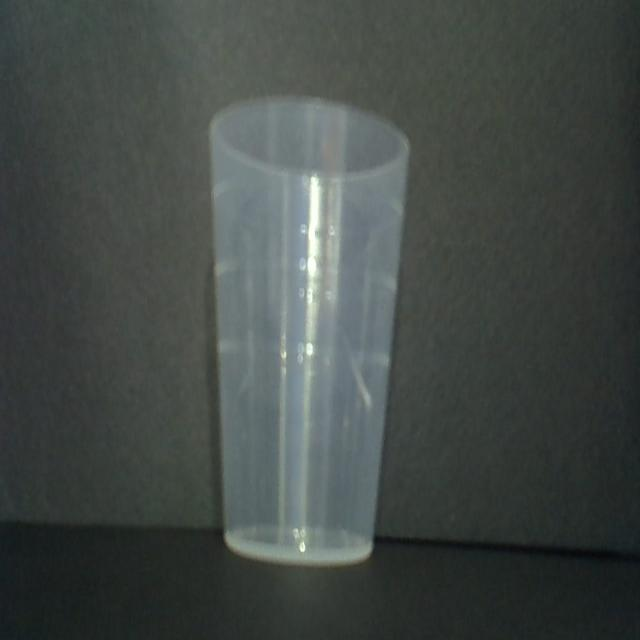cup: (208, 91, 412, 568)
